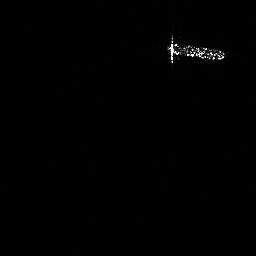ship: (162, 32, 228, 66)
